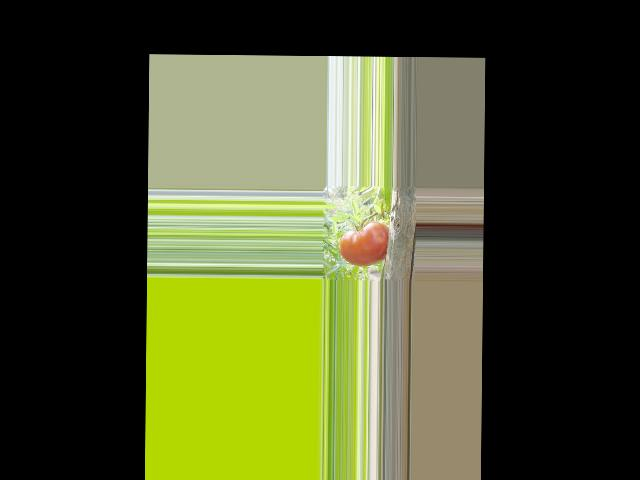tomato: (338, 221, 389, 266)
